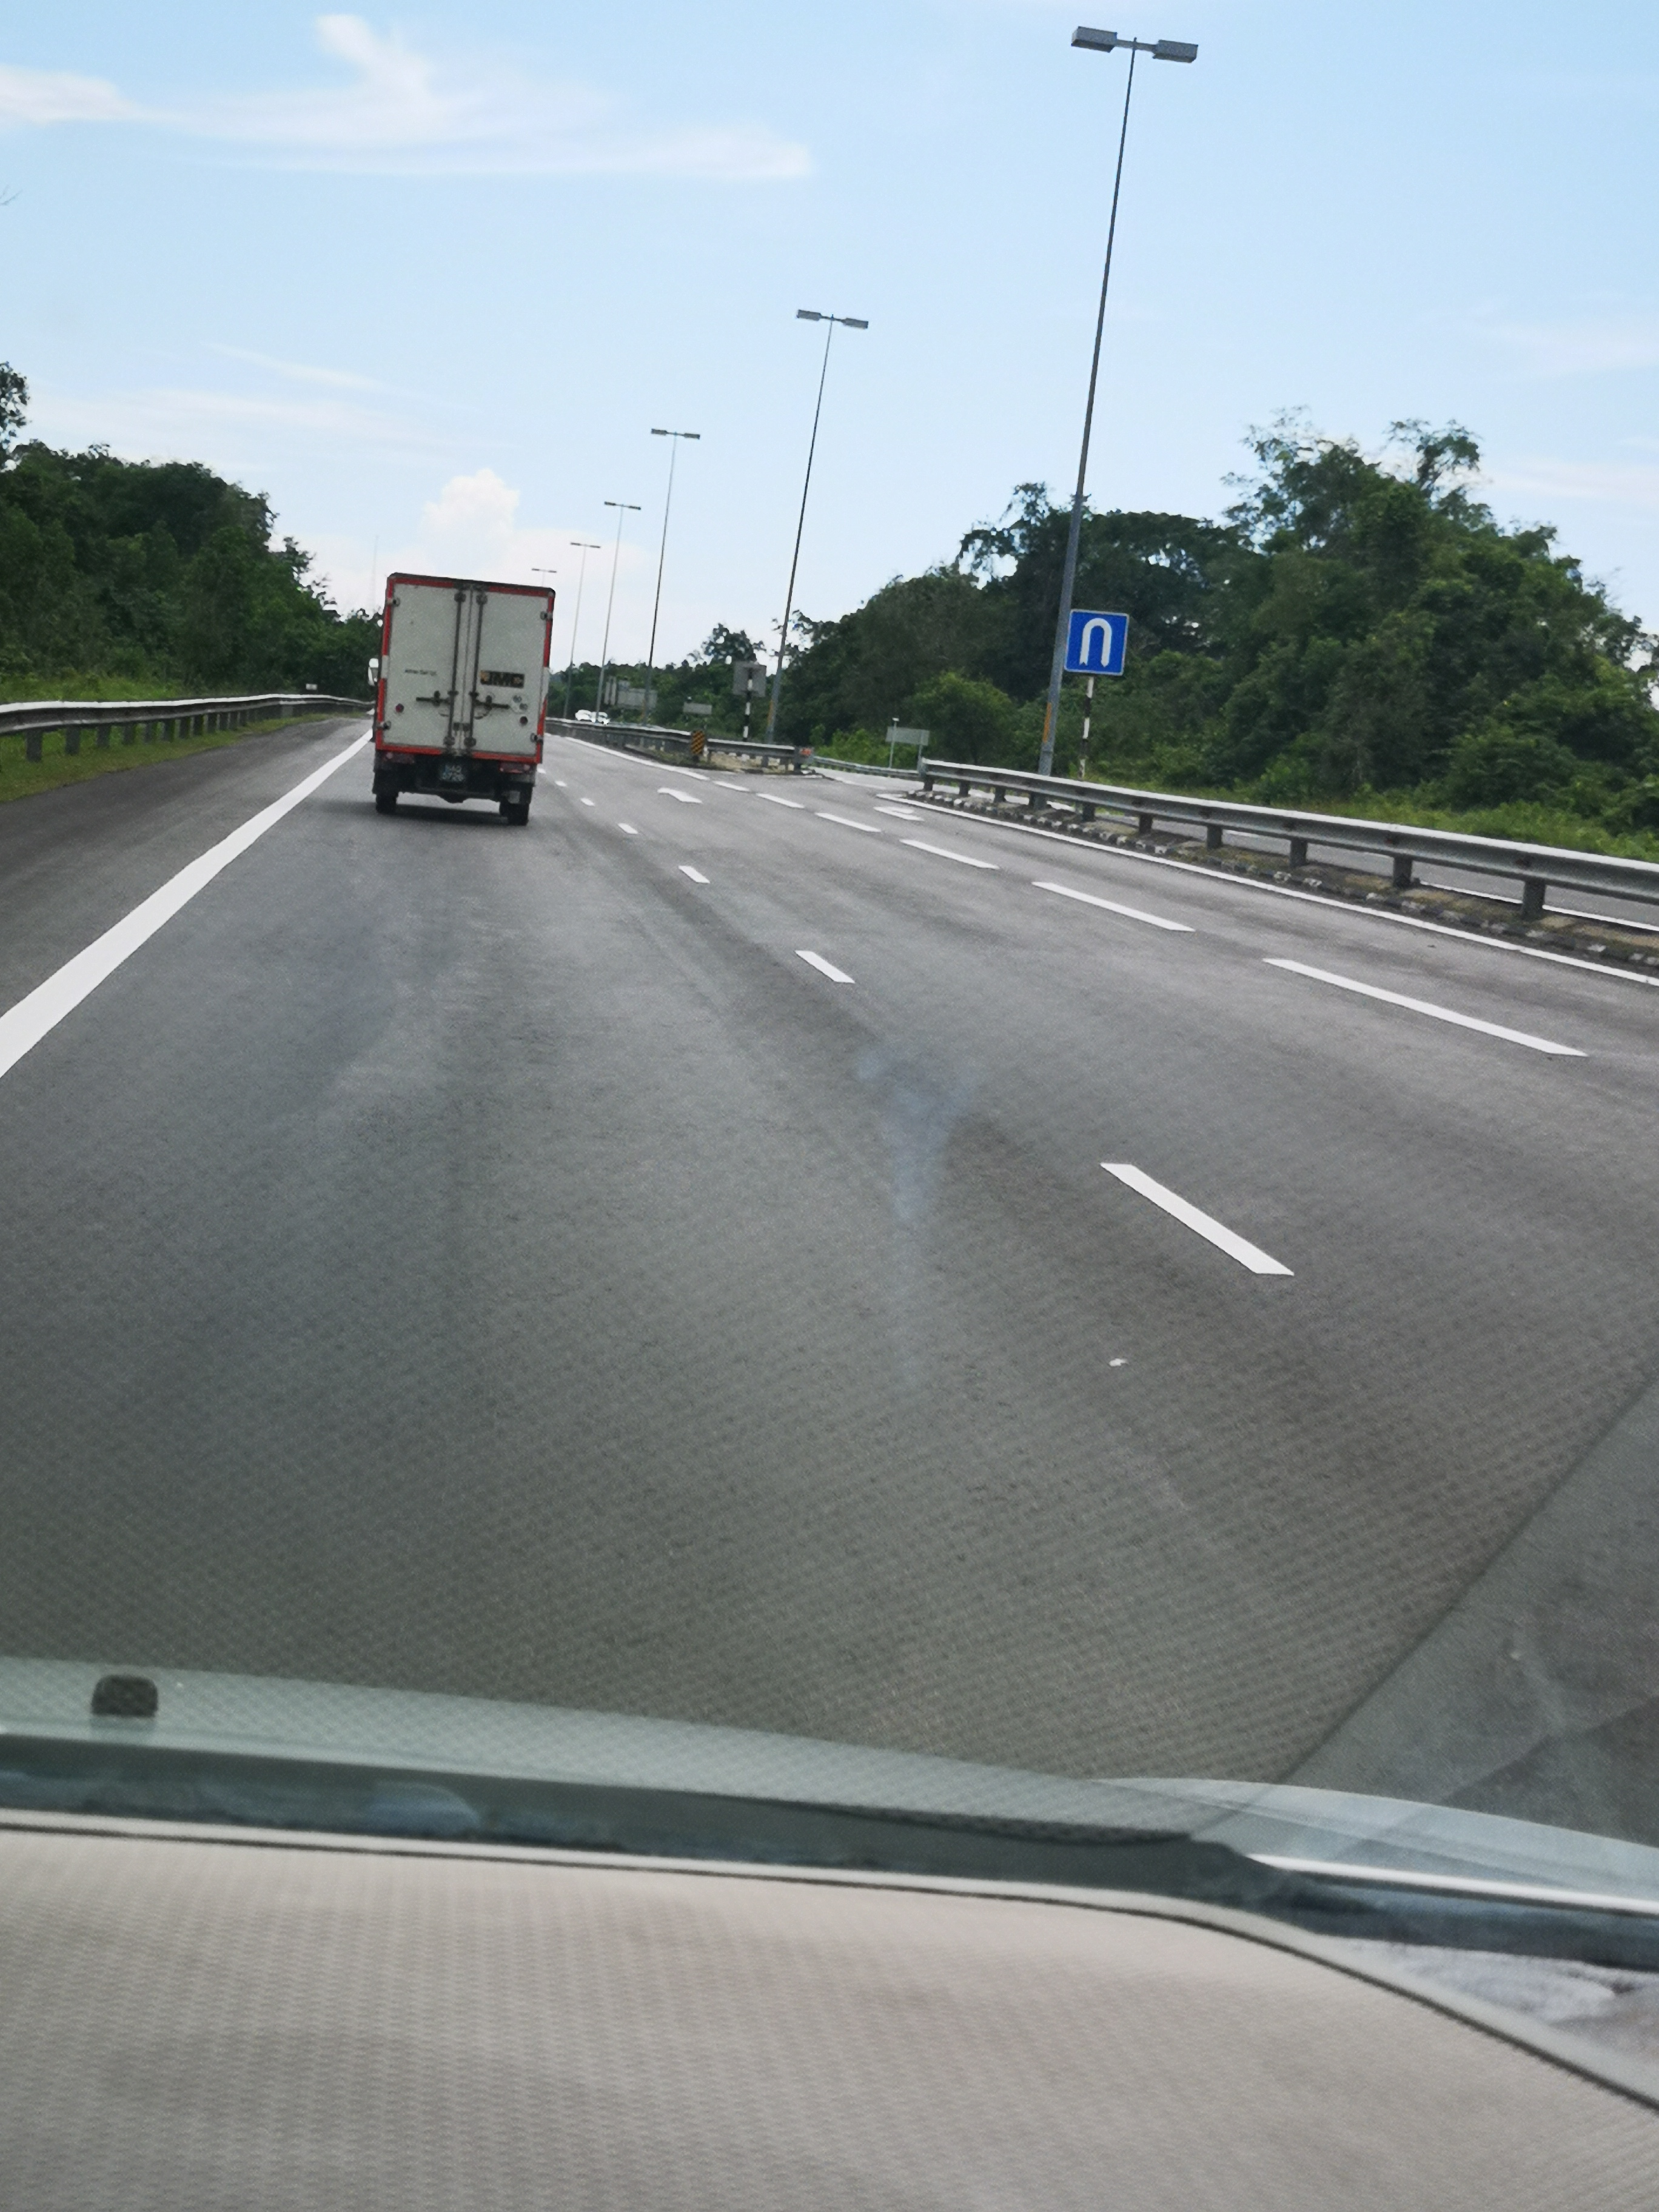U-turn: (1061, 601, 1134, 686)
